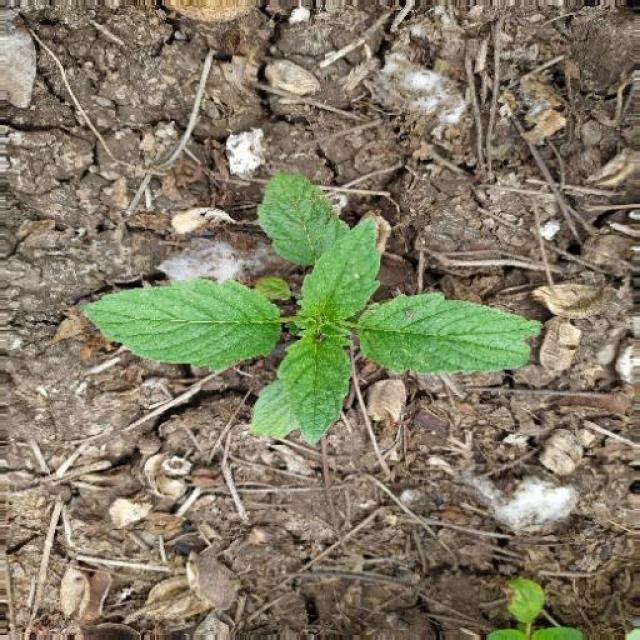crop: (92, 168, 562, 458)
